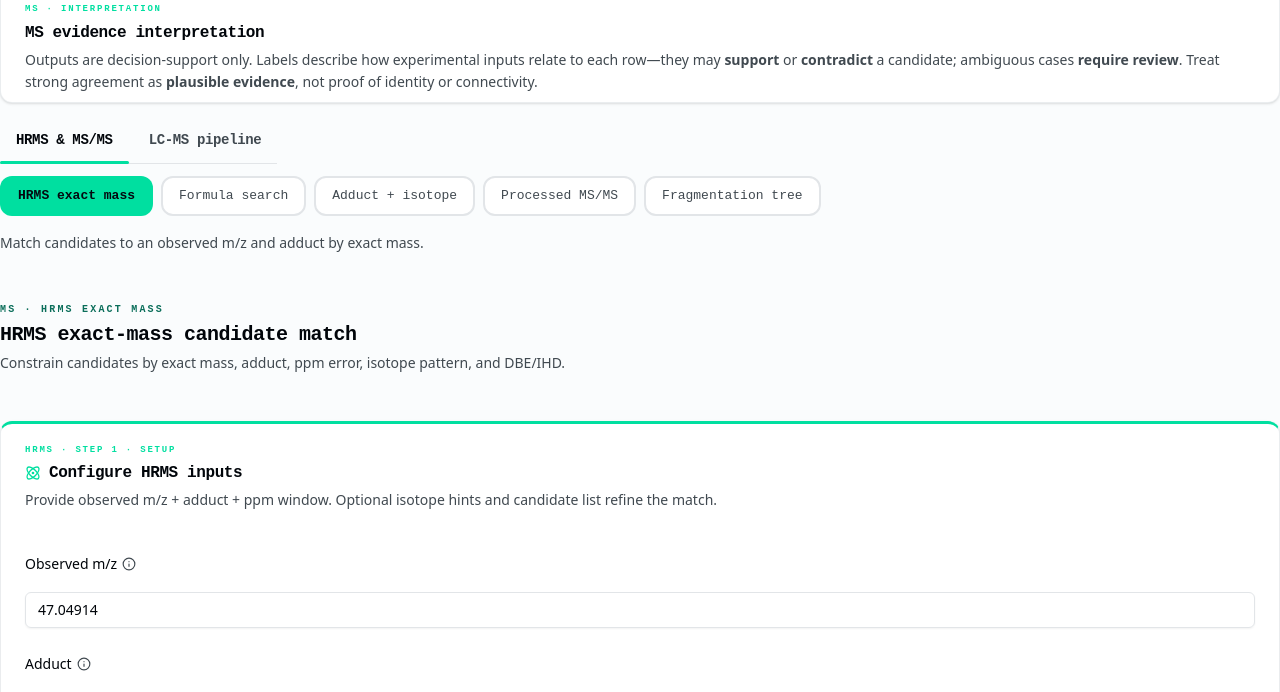
Test case: SpectraCheckMsEvidence HRMS & formula › renders Formula search beta card
What coordinates should you click on to do the following:
click the tab "Formula search"
I would click on:
 (234, 196)
Its box is [161, 176, 306, 216].
(page scrolled)
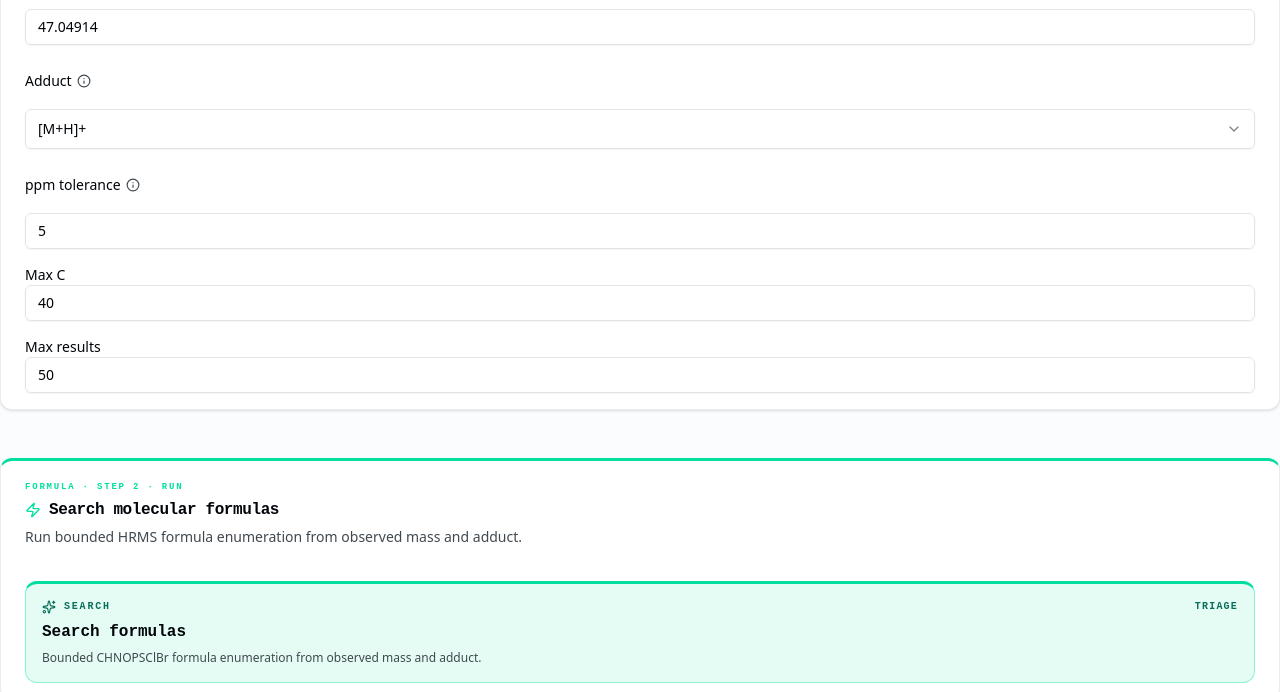
Result: the button "Search formulas" is shown at [25, 581, 1255, 683]
